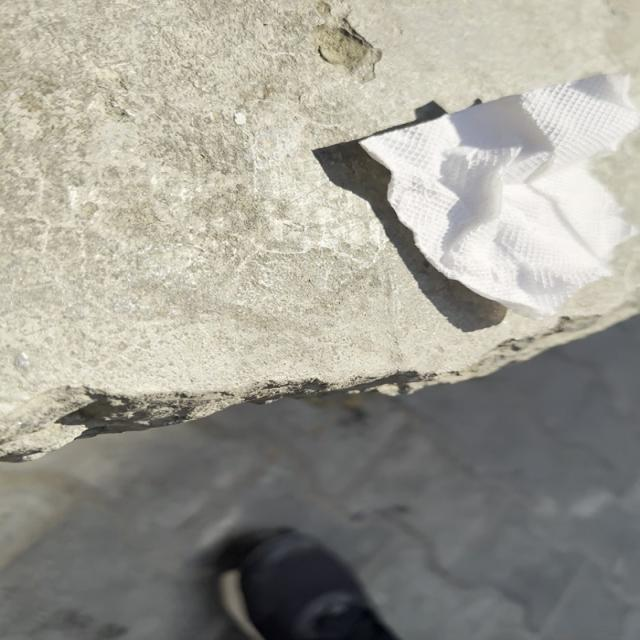tissue: (353, 67, 634, 320)
